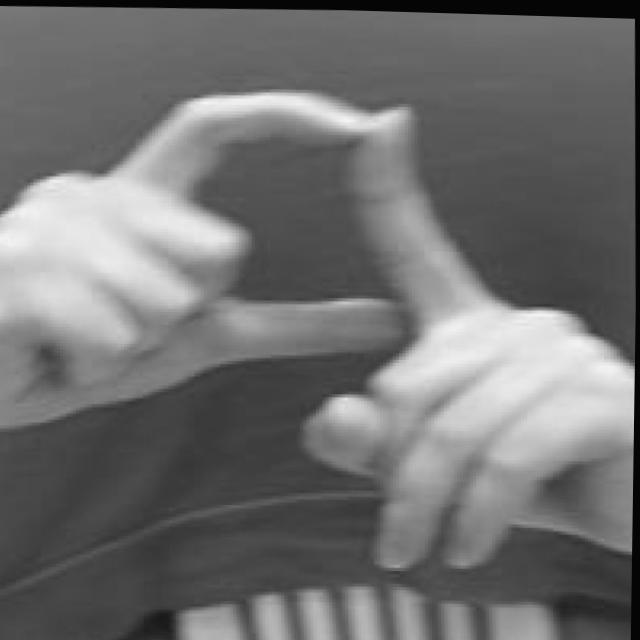D: (0, 62, 579, 582)
